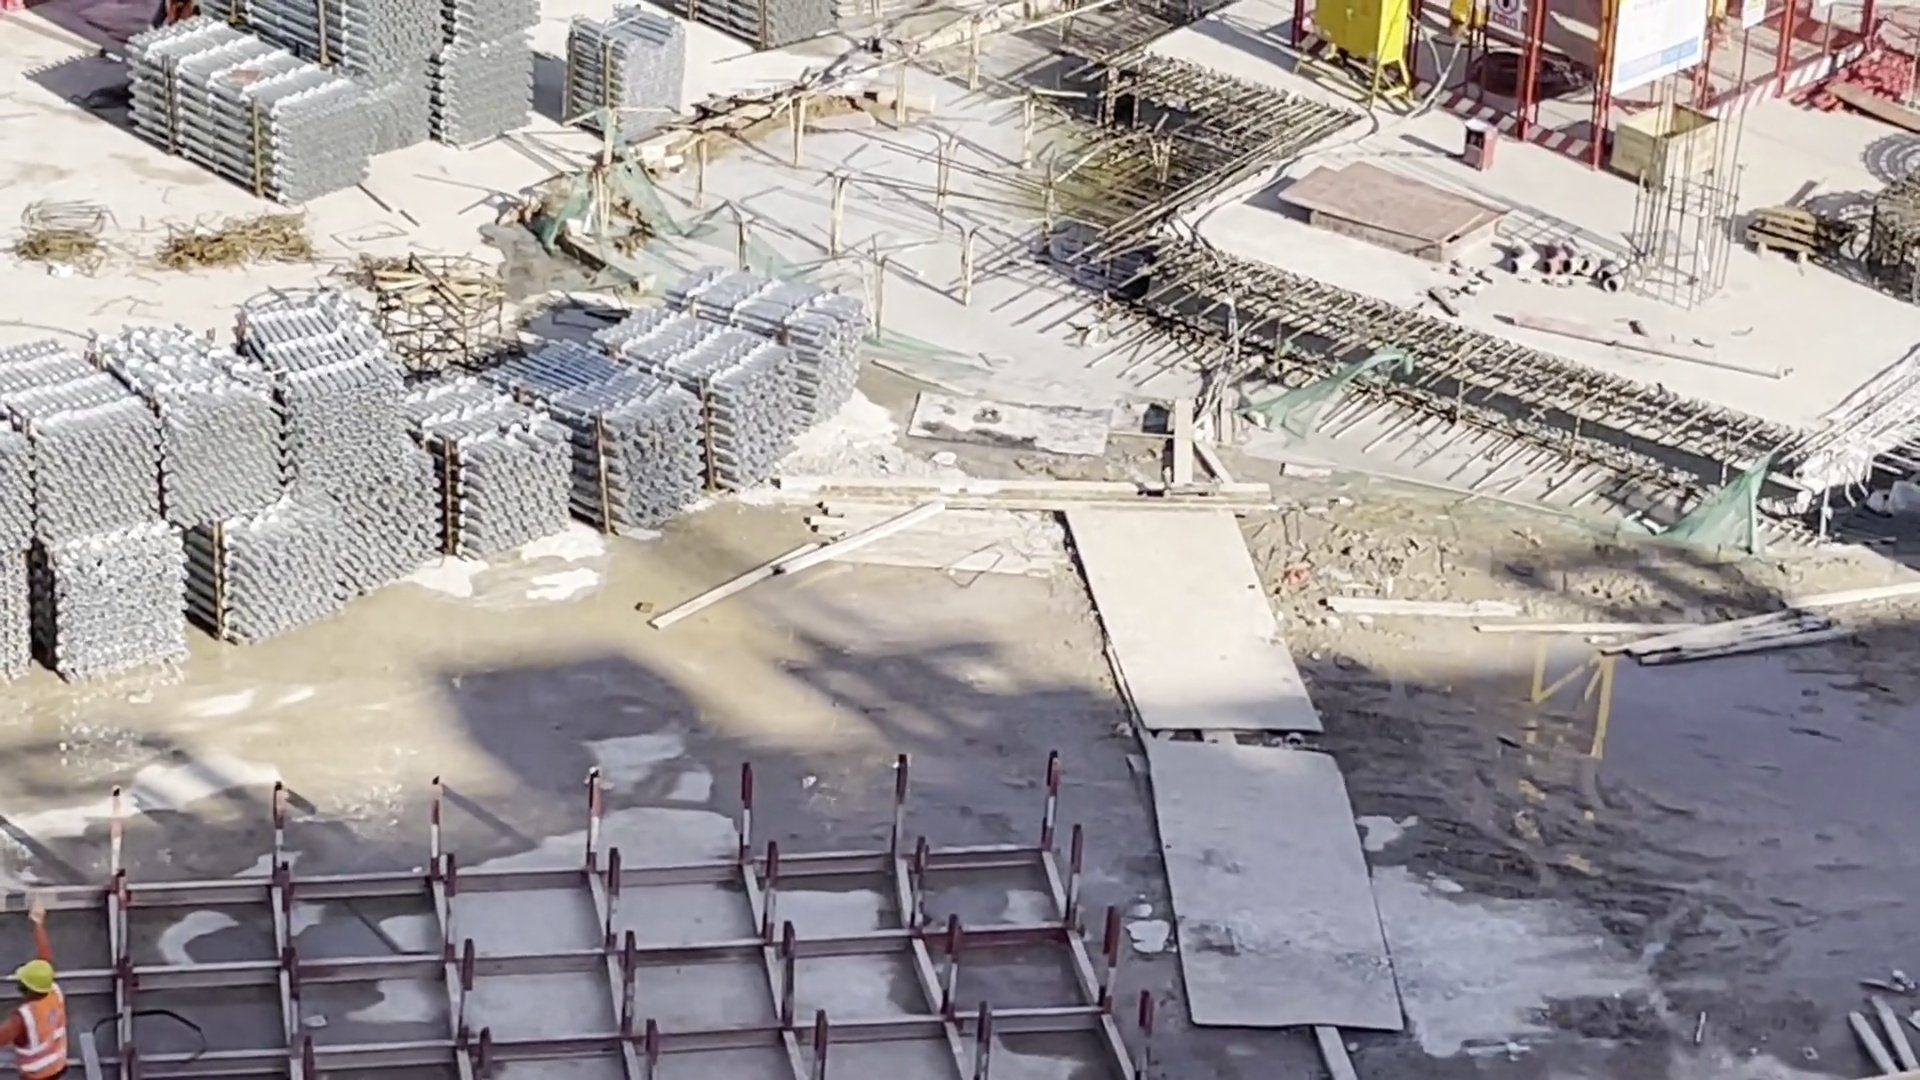board: (1283, 155, 1515, 263)
ebox: (1303, 1, 1414, 107)
helmet: (1, 942, 74, 1009)
person: (3, 938, 81, 1080)
scaffold: (1, 259, 865, 671), (111, 6, 533, 203), (567, 5, 684, 134)
vest: (22, 1001, 76, 1068)
